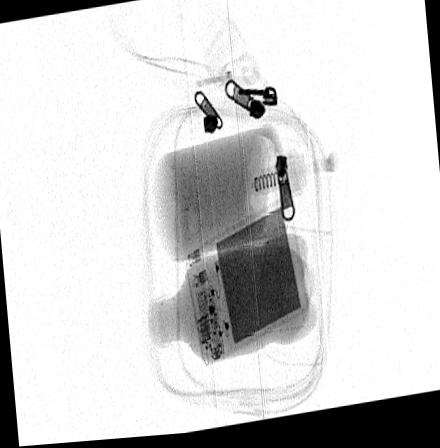Powerbank: (183, 201, 309, 369)
